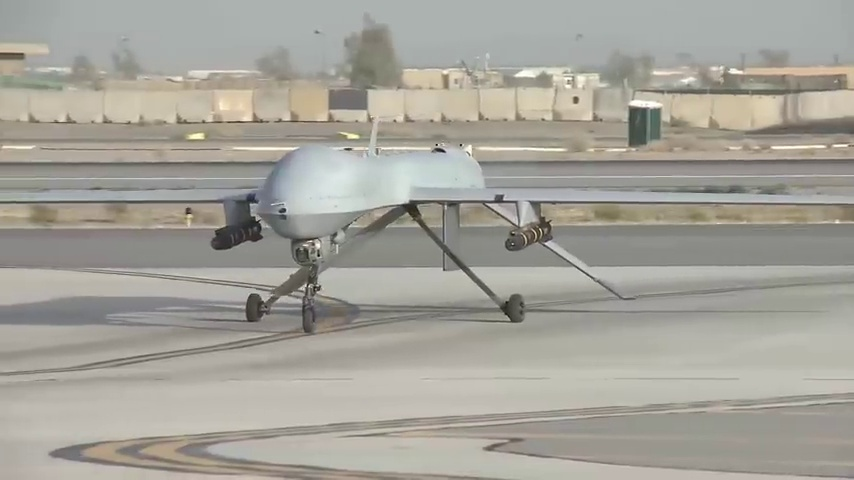military drone: (0, 114, 854, 332)
